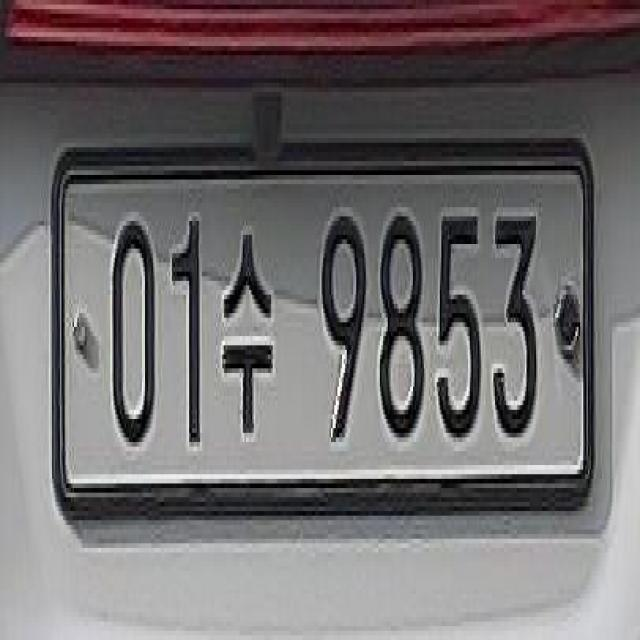illegal_plate: (47, 135, 606, 540)
